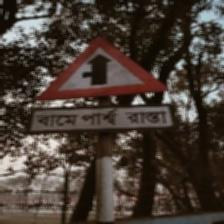Side-road-left: (29, 35, 174, 136)
